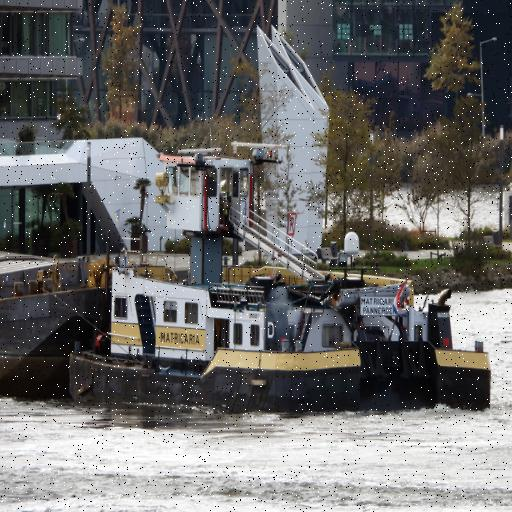tugboat: (64, 126, 496, 429)
